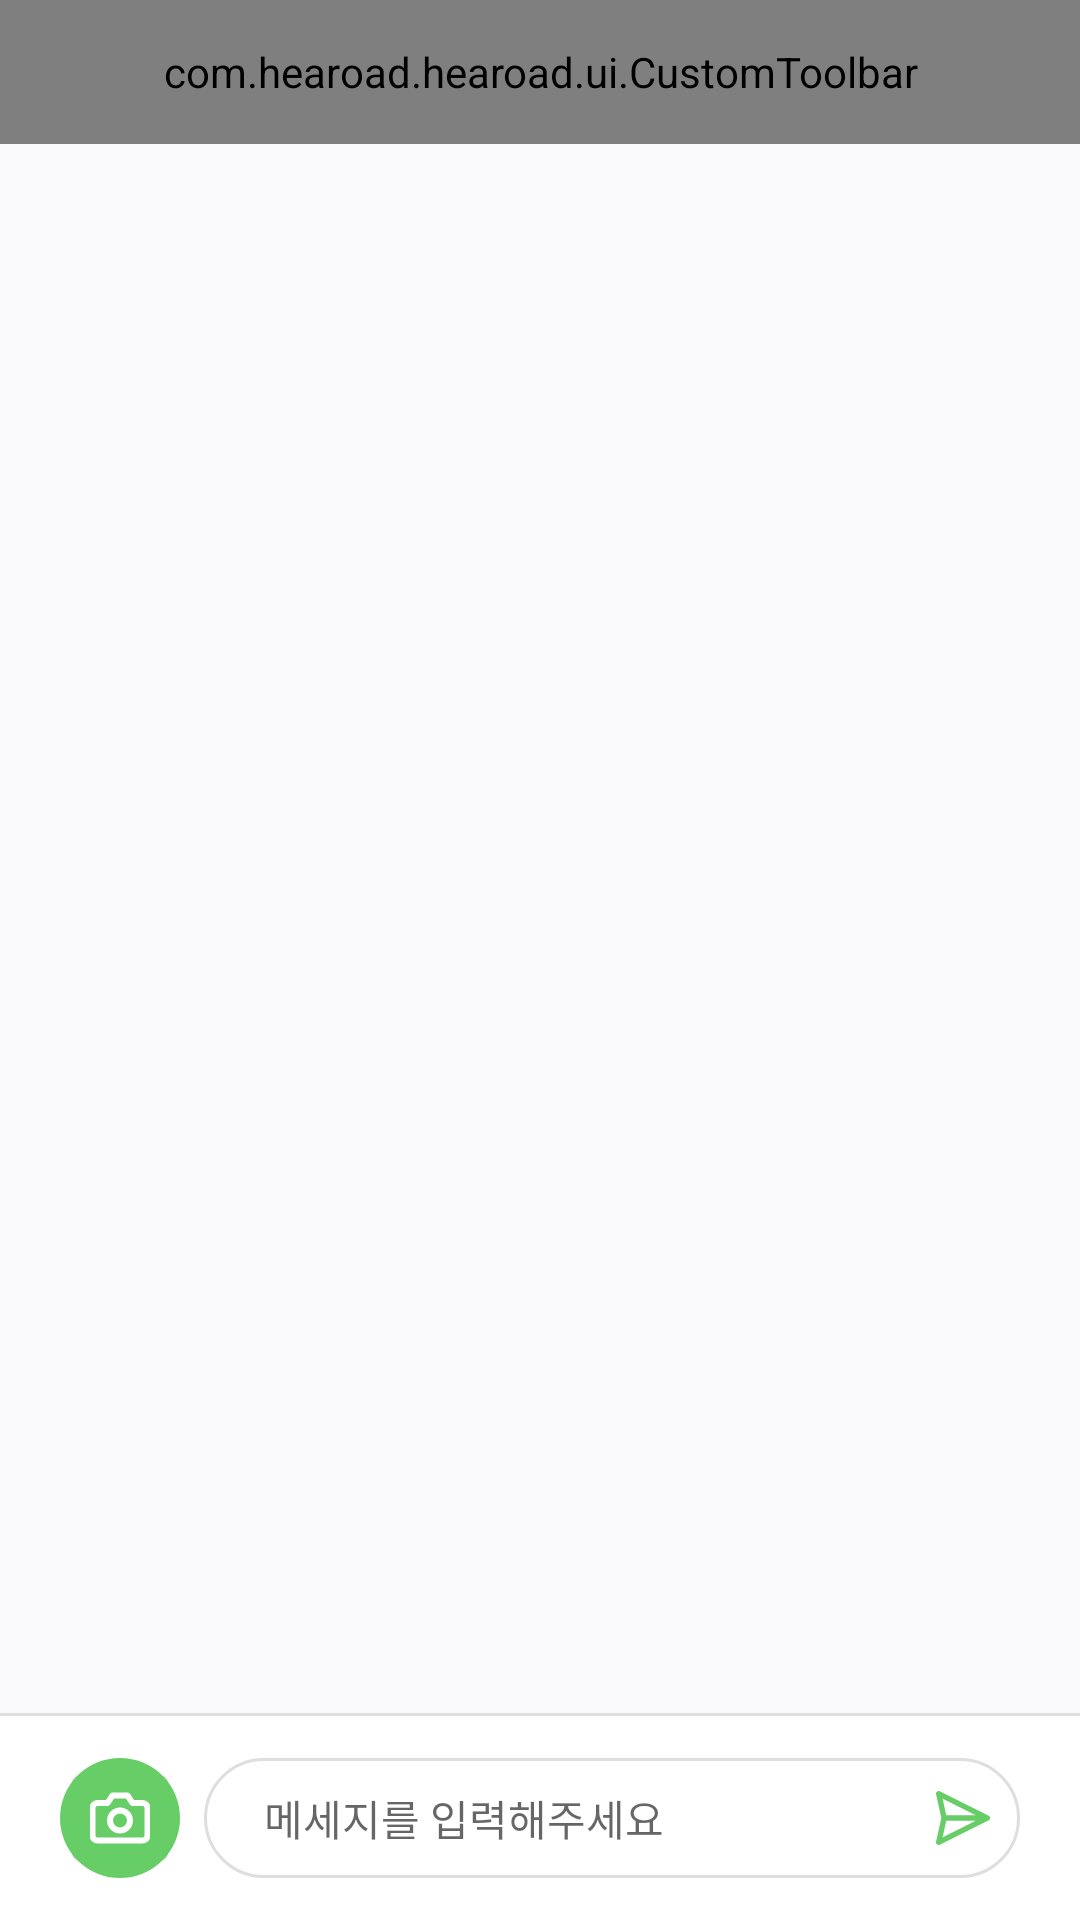

Where icons sit on this 1080 × 1920 app screen, as (x1, y1, x2, y2):
camera: (60, 1758, 180, 1878)
send: (936, 1791, 990, 1845)
